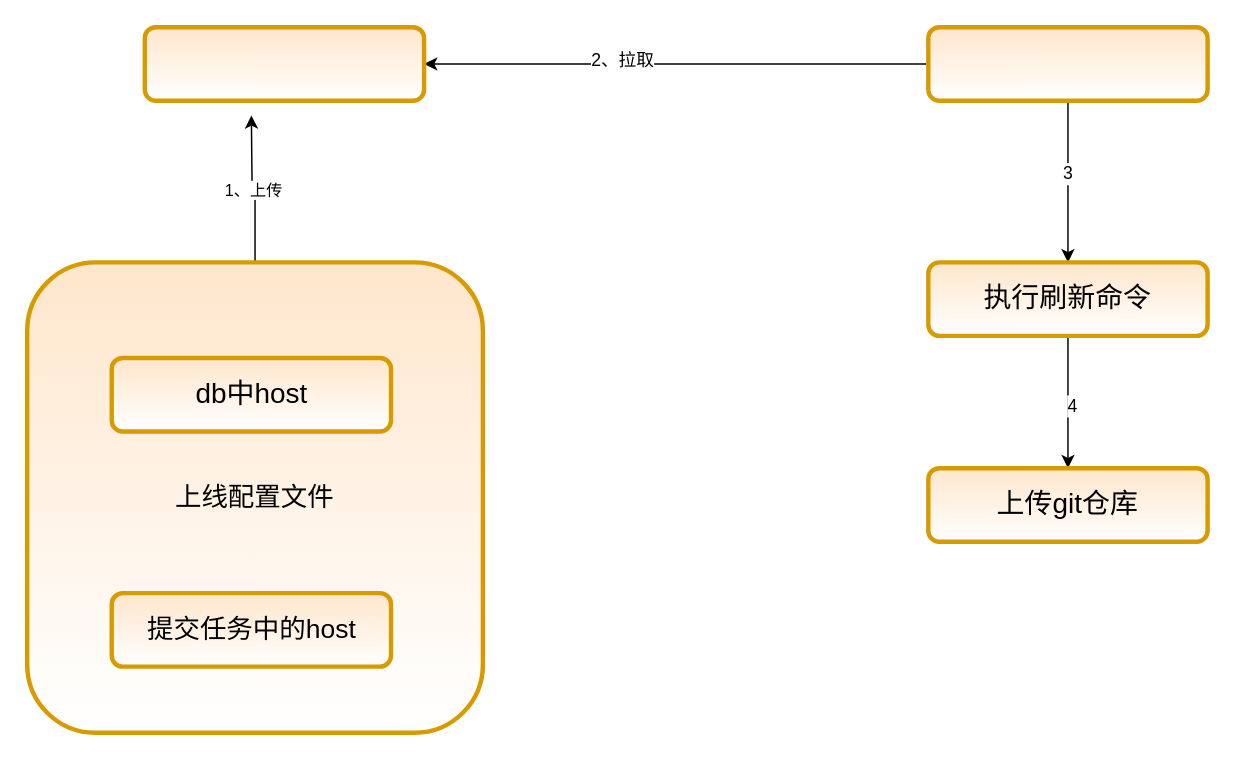
This 1235x760 diagram has some shape labels left out. Each missing label, with the centre of its shape:
文件服务器（生成临时文件）: [284,63]
管理节点: [1067,63]
